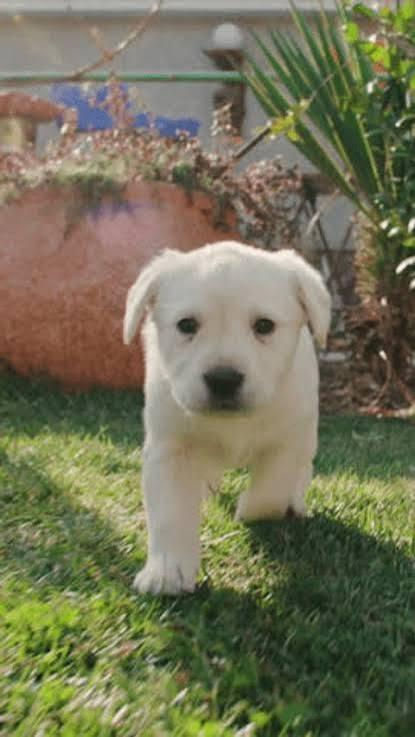puppy-dog: (121, 240, 333, 595)
